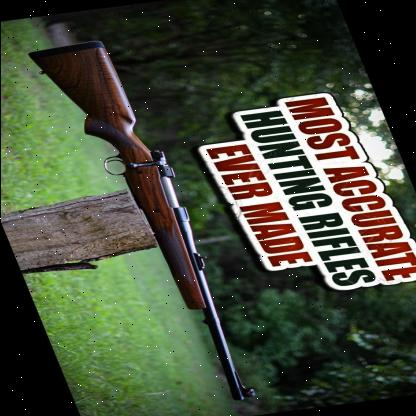rifle: (21, 28, 270, 414)
